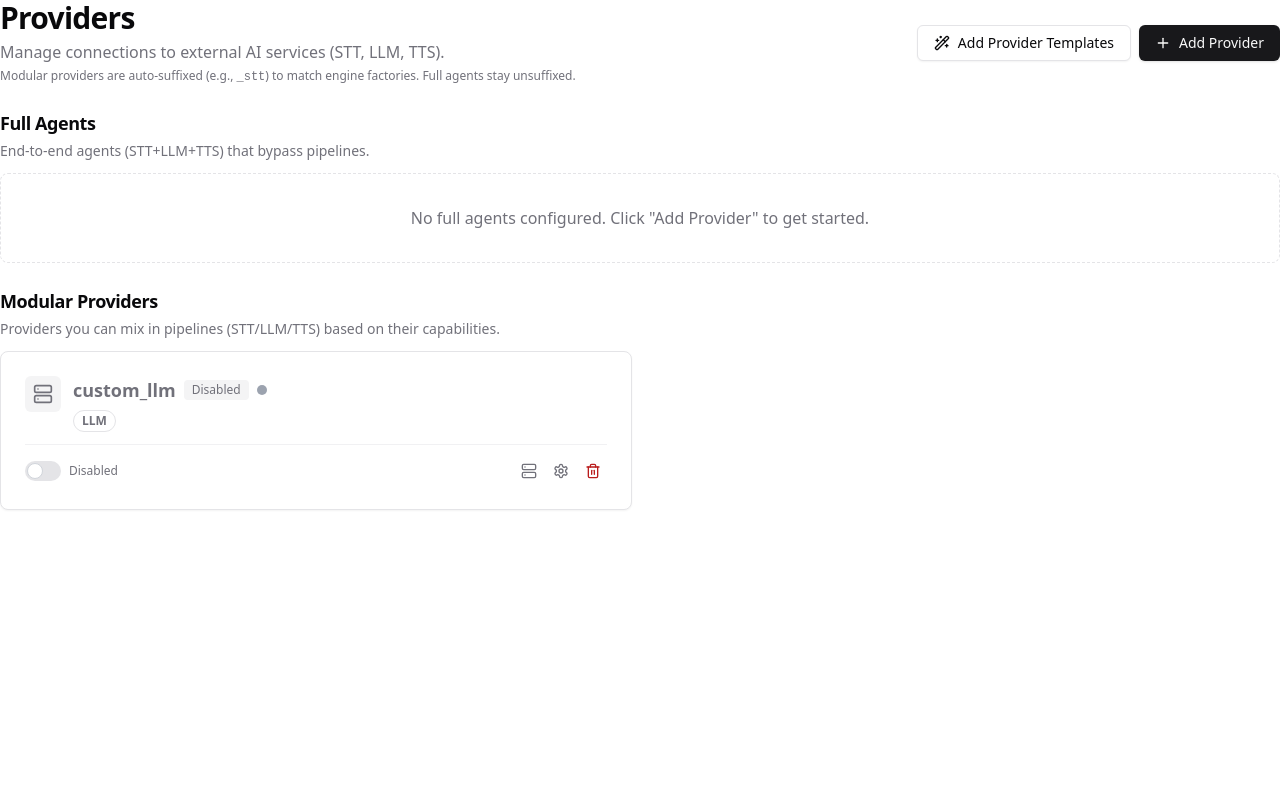
Test: provider connection results › does not reuse a pending result after closing and reopening the same editor
Click the button named "Settings for custom_llm": (561, 471) [547, 457, 575, 485]
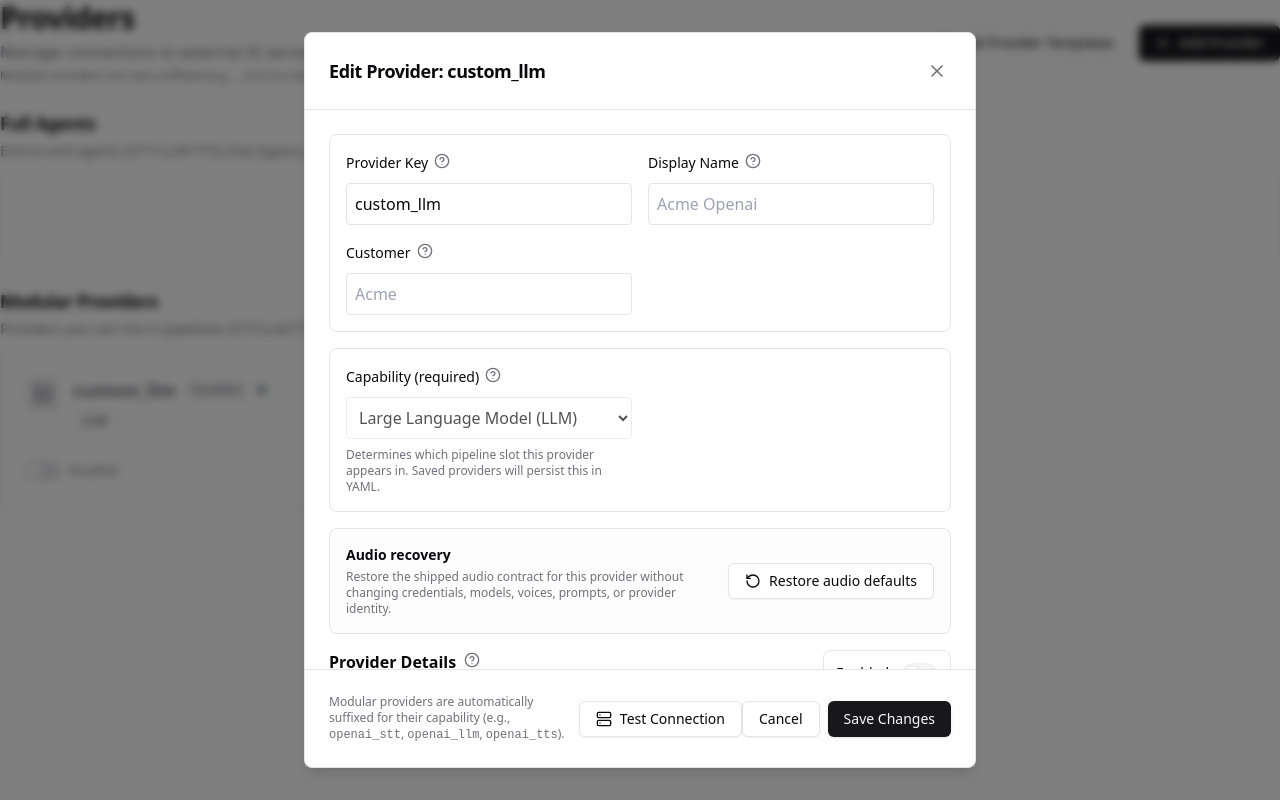
Click the button "Test Connection": (660, 718) [579, 700, 742, 736]
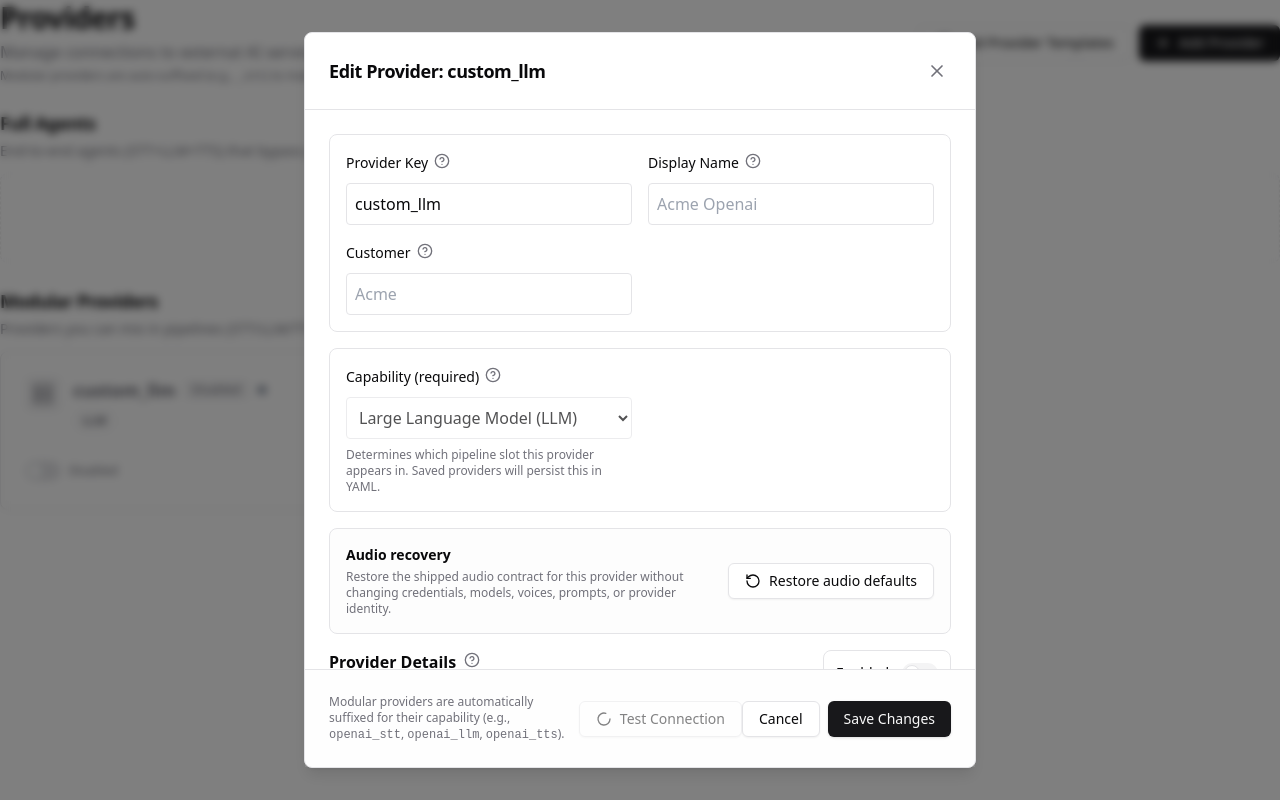
Click the button "Cancel": (781, 718) [742, 700, 820, 736]
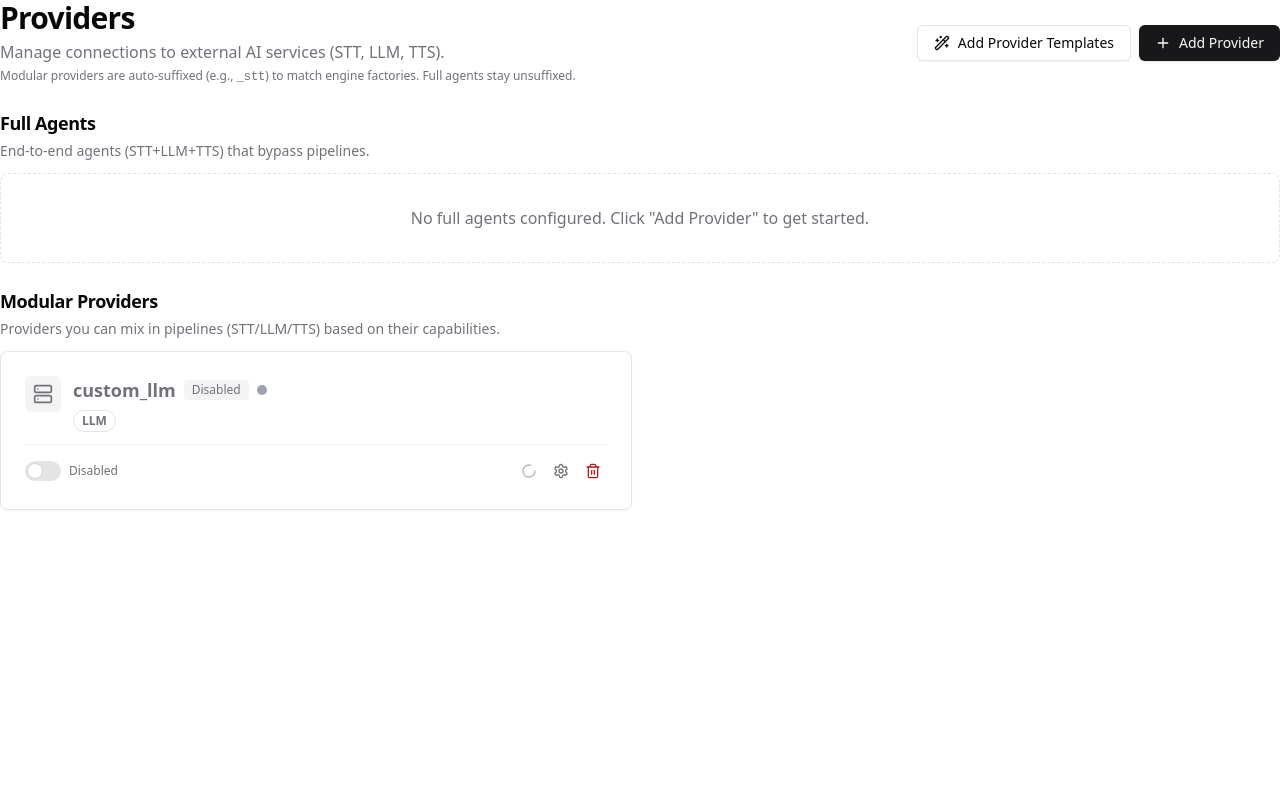
Click the button named "Settings for custom_llm": (561, 471) [547, 457, 575, 485]
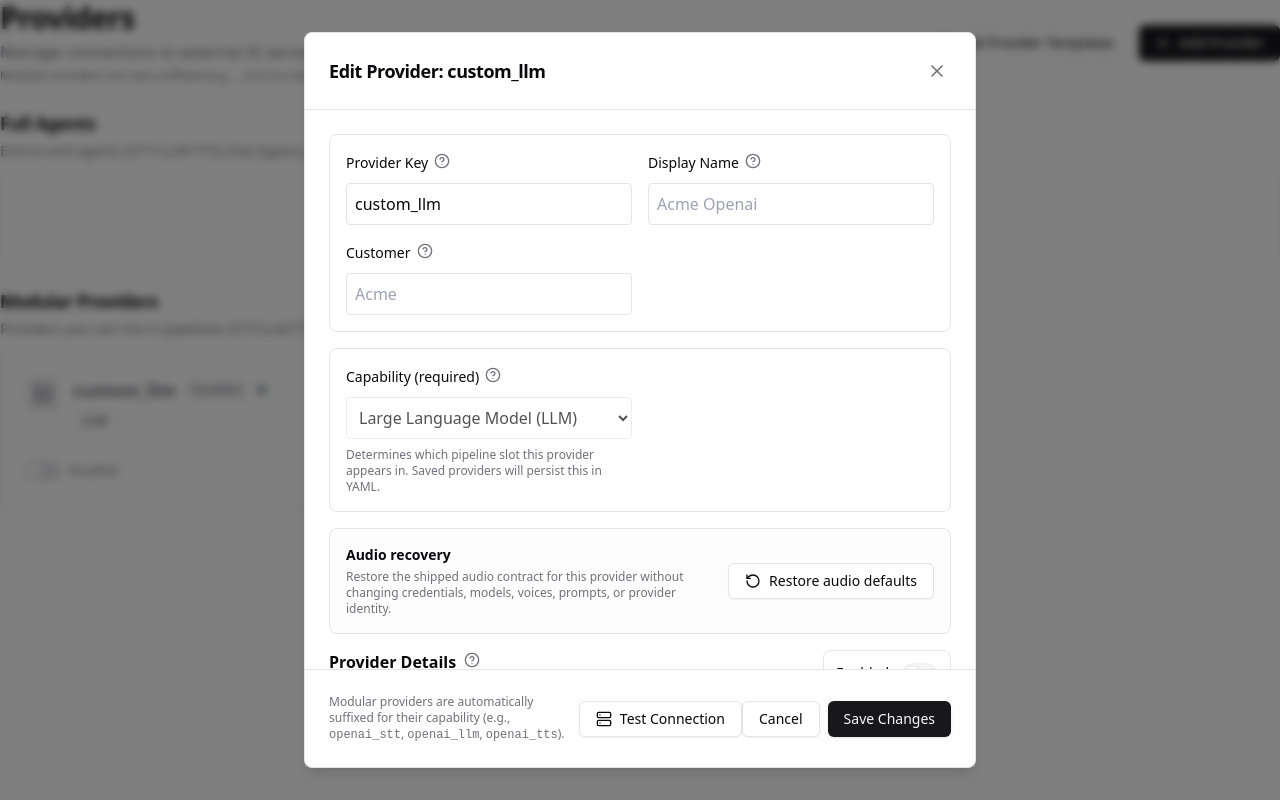
Now the button "Test Connection" is enabled, box [579, 700, 742, 736]
